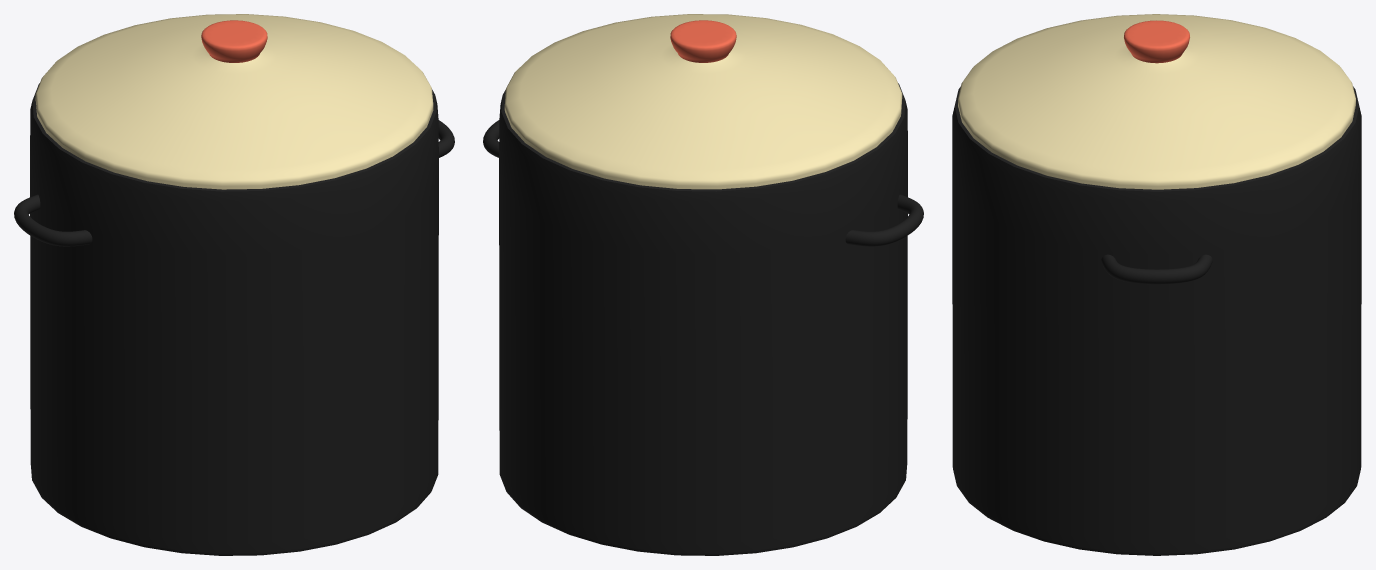
File: HP_pot2.glb
3 views of the same model, side by side, from view 1: azimuth 30°, elevation 25°; view 2: azimuth 150°, elevation 25°; view 3: azimuth 270°, elevation 25° (orthographic).
Visible parts, largest first — view 1: HP_pot2.001, HP_pot2_lid.001; view 2: HP_pot2.001, HP_pot2_lid.001; view 3: HP_pot2.001, HP_pot2_lid.001.
Boxes of the visible parts, x1,y1,x2,y2 form: HP_pot2.001: [14, 83, 454, 555]; HP_pot2_lid.001: [35, 14, 433, 189]; HP_pot2.001: [483, 83, 923, 555]; HP_pot2_lid.001: [504, 14, 902, 189]; HP_pot2.001: [952, 86, 1361, 555]; HP_pot2_lid.001: [958, 14, 1355, 189].
Size of the model in its own units: 0.4269 by 0.4257 by 0.3615.
Materials: 1 (1 with a texture image).
